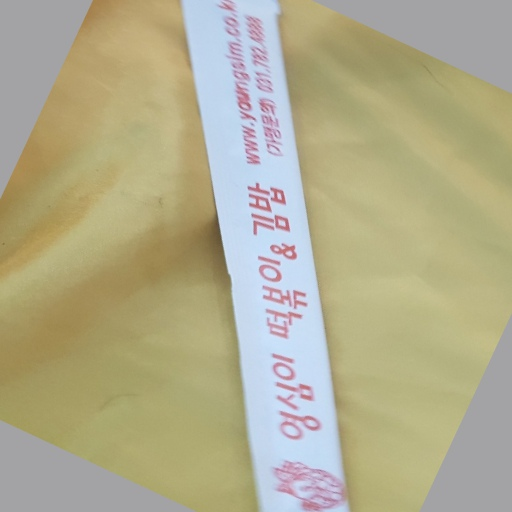Paper_2: (180, 1, 363, 512)
